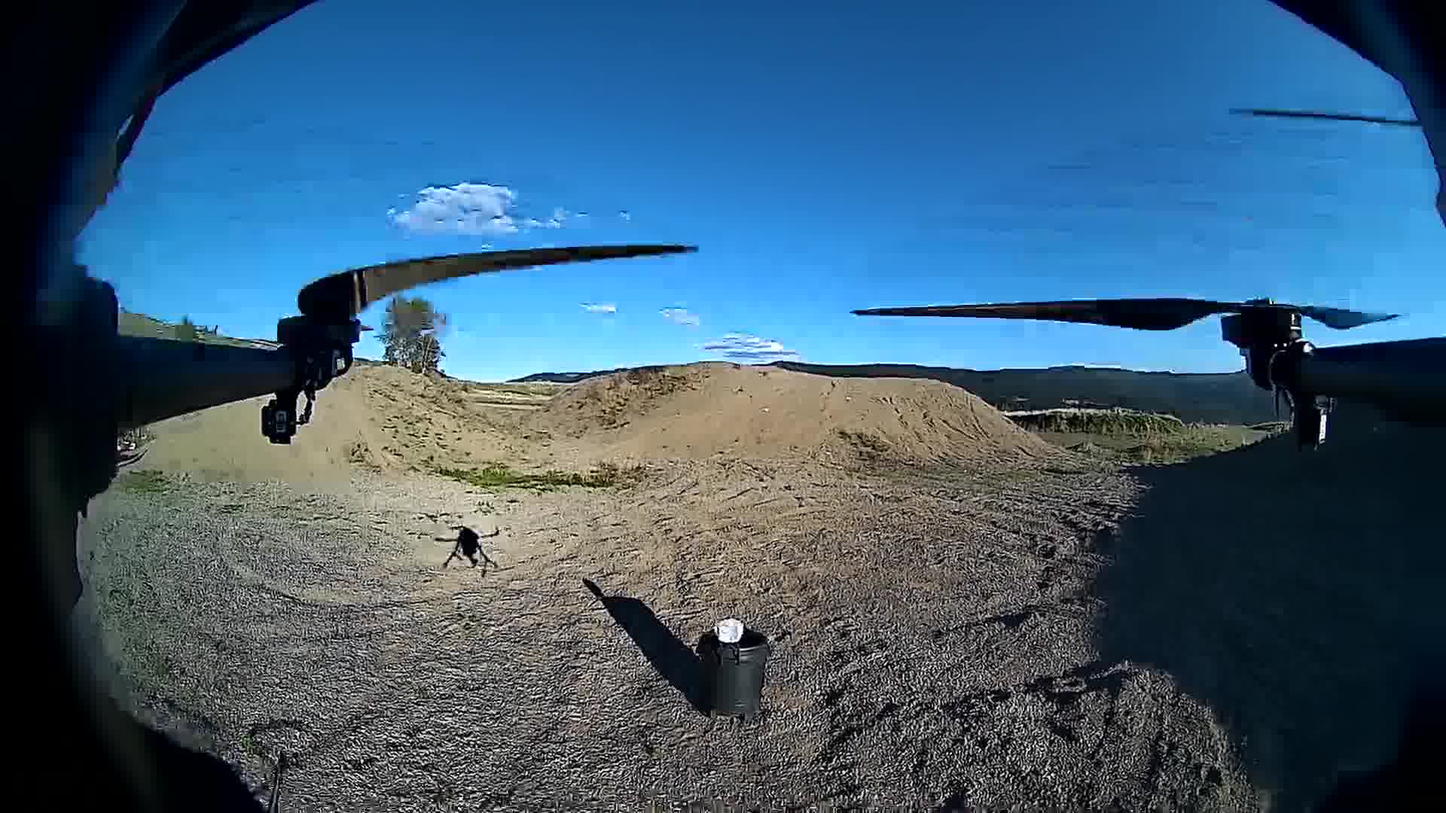Target: (713, 617, 745, 644)
